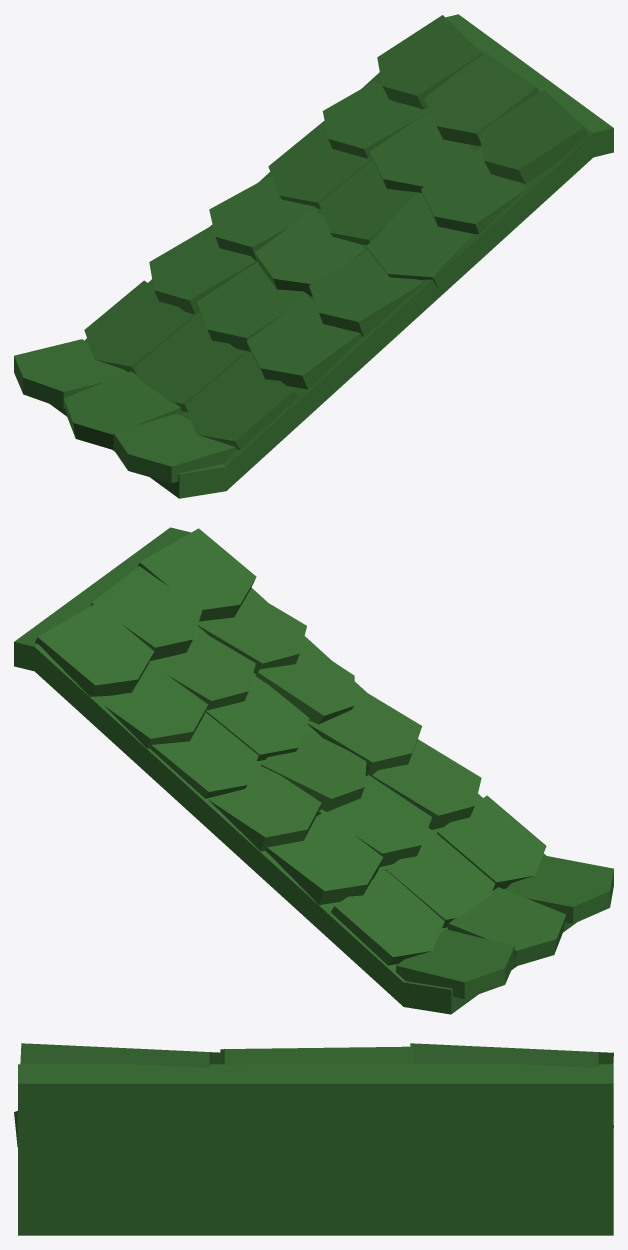
The model's file is Roof_house01.obj.
3 renders of one model, top to bottom at view 1: azimuth 30°, elevation 25°; view 2: azimuth 150°, elevation 25°; view 3: azimuth 270°, elevation 25°, orthographic. The views are drawn at different scales.
Visible parts, largest first — view 1: Roof_Cube.006; view 2: Roof_Cube.006; view 3: Roof_Cube.006.
Part boxes in pixels (x1,y1,x2,y2): Roof_Cube.006: (14, 14, 613, 498); Roof_Cube.006: (14, 527, 613, 1014); Roof_Cube.006: (14, 1043, 613, 1235).
Size of the model in its own units: 5.97 by 3.4 by 3.51.
